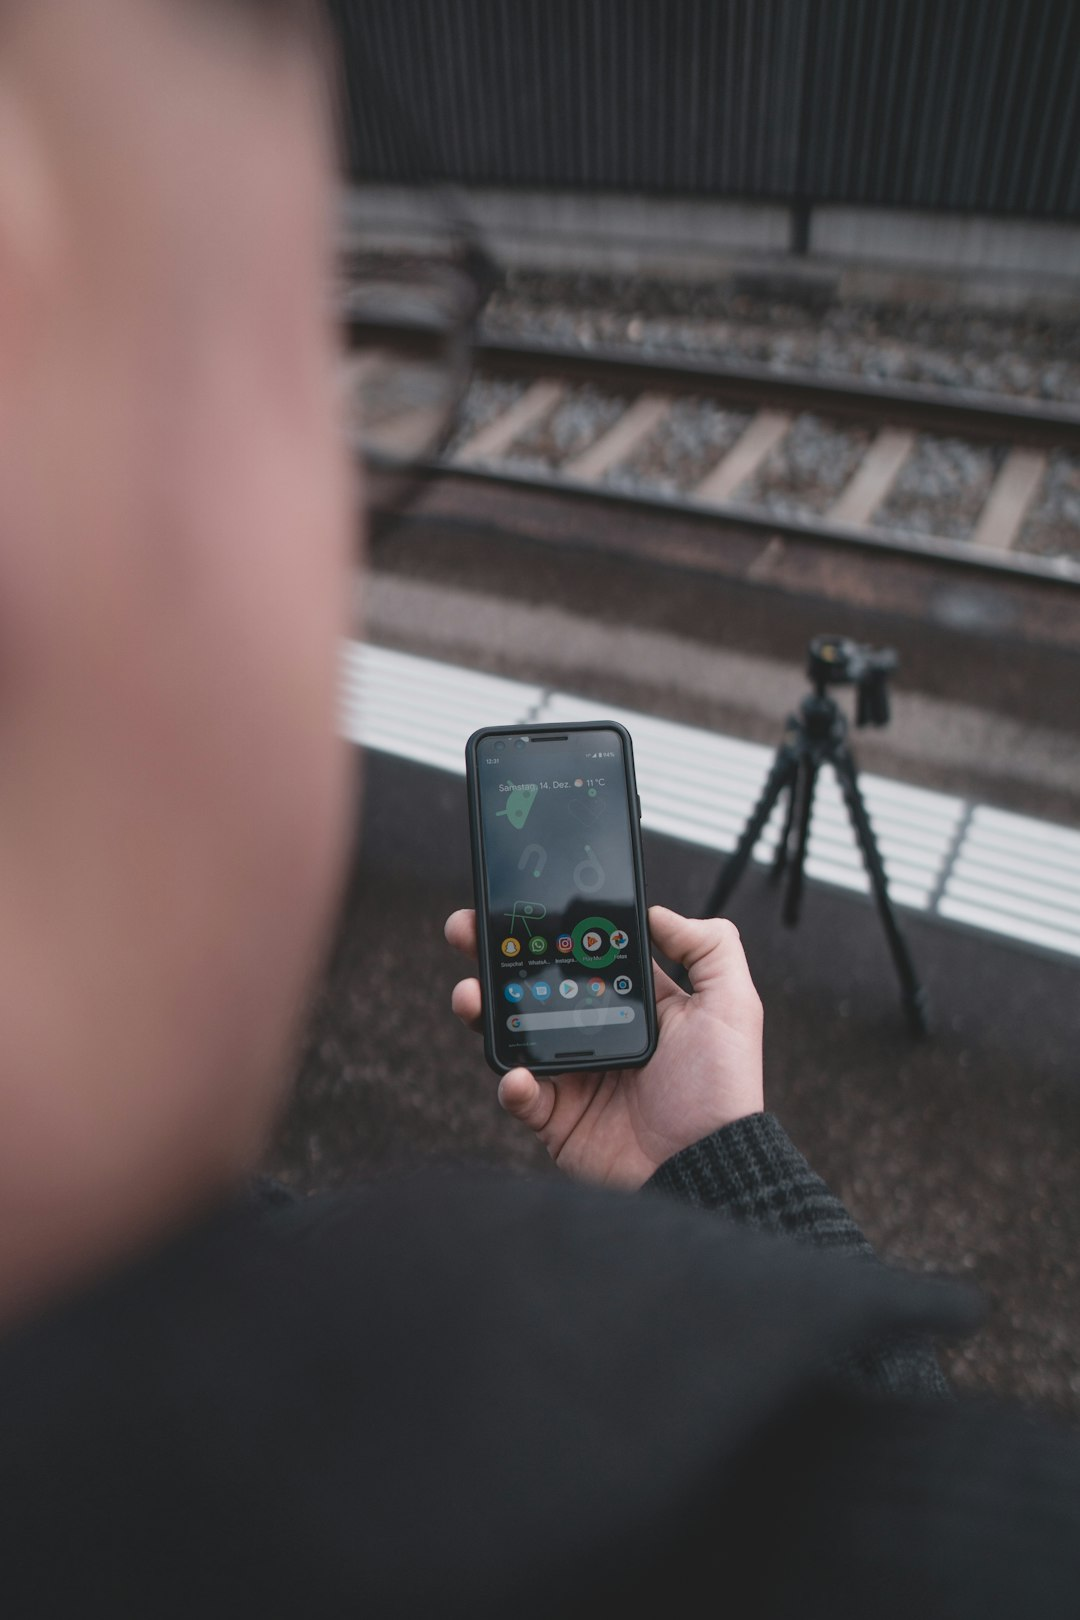phone: (466, 715, 667, 1078)
